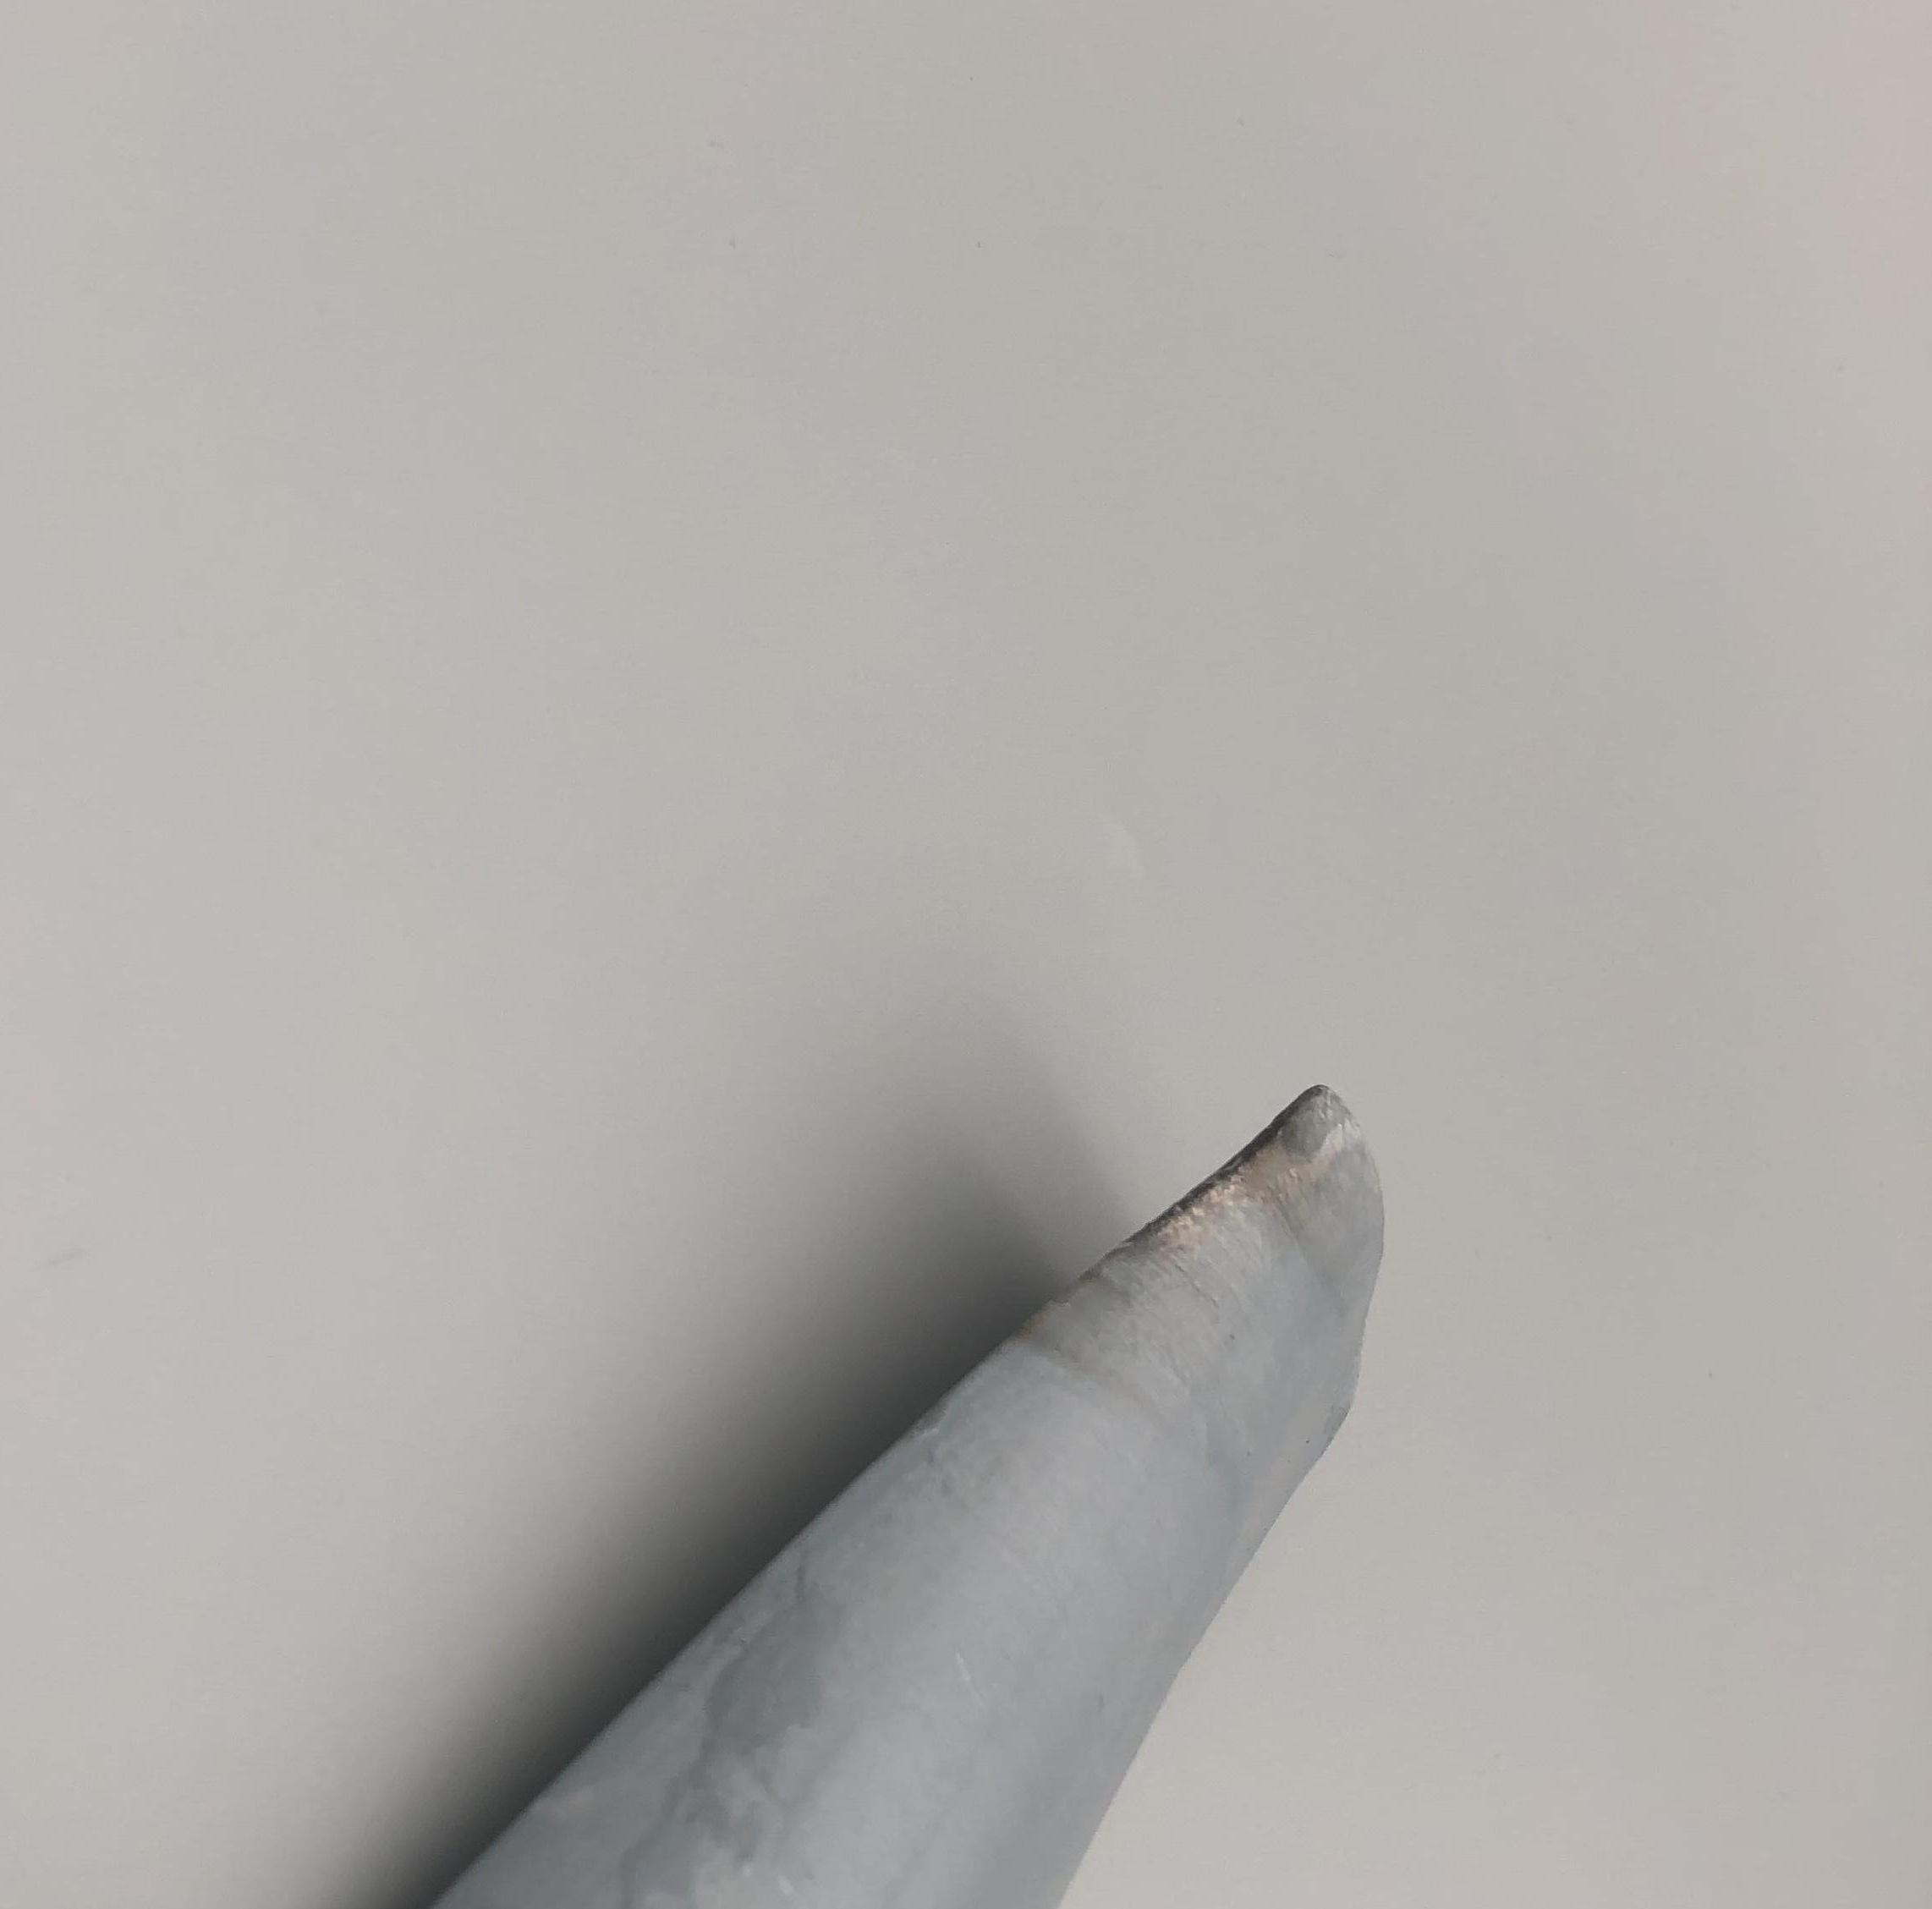ablation: (1105, 1087, 1341, 1241)
